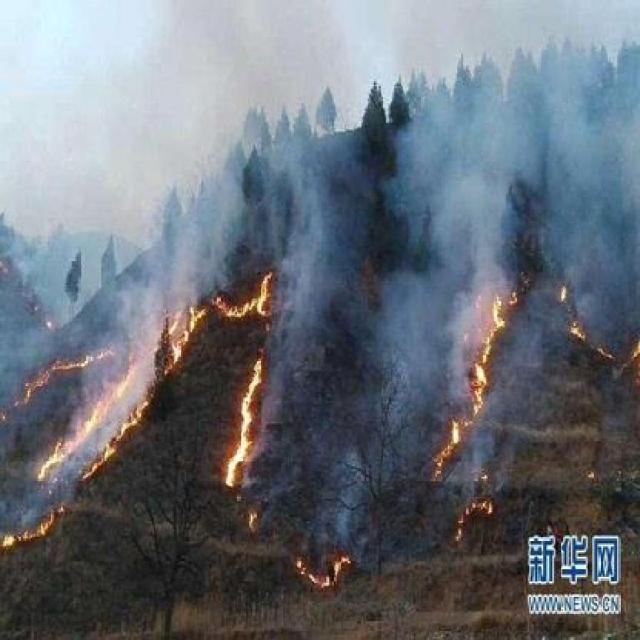Fire: (0, 338, 138, 550), (435, 272, 518, 489), (144, 266, 288, 372), (564, 283, 640, 388), (230, 374, 276, 536), (297, 548, 352, 600), (454, 487, 494, 543)
Smoke: (285, 91, 437, 546), (139, 29, 305, 276), (0, 72, 134, 333)
